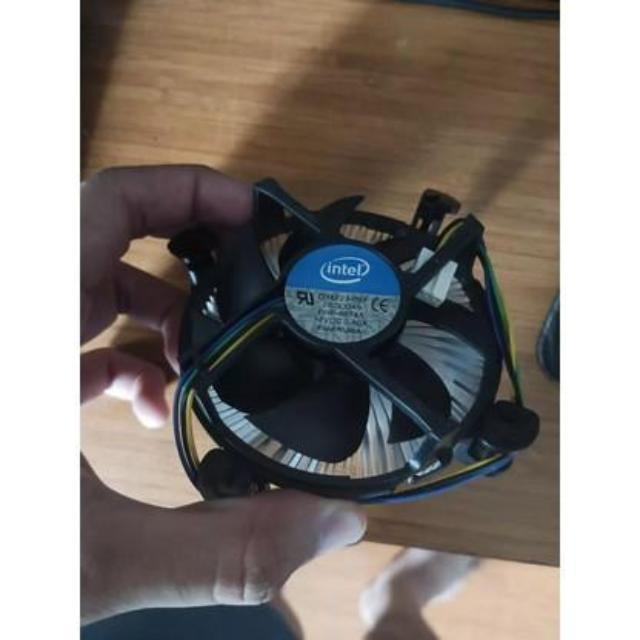CPU_Fan: (175, 182, 538, 504)
